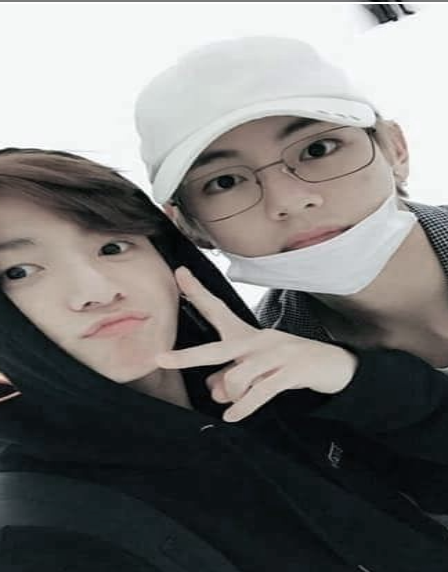mask_weared_incorrect: (139, 33, 406, 299)
